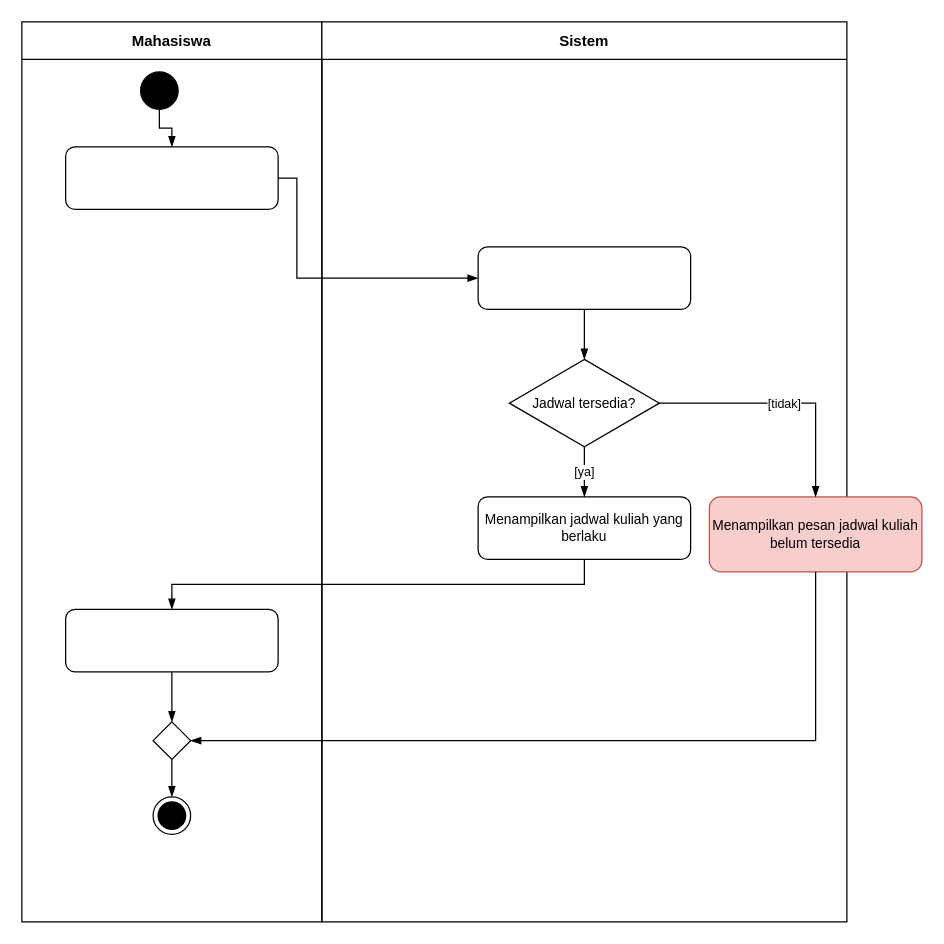
This 944x944 diagram has some shape labels left out. Each missing label, with the centre of its shape:
Melihat jadwal kuliah: pixel 171 640
Membuka fungsi Lihat Jadwal Kuliah: pixel 171 177
Memeriksa ketersediaan jadwal kuliah: pixel 584 277
